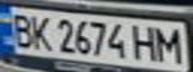2: (51, 16, 75, 54)
4: (106, 20, 130, 60)
6: (72, 18, 93, 56)
7: (87, 18, 109, 57)
B: (6, 10, 36, 48)
H: (130, 21, 160, 62)
K: (27, 12, 54, 52)
M: (151, 24, 187, 64)
